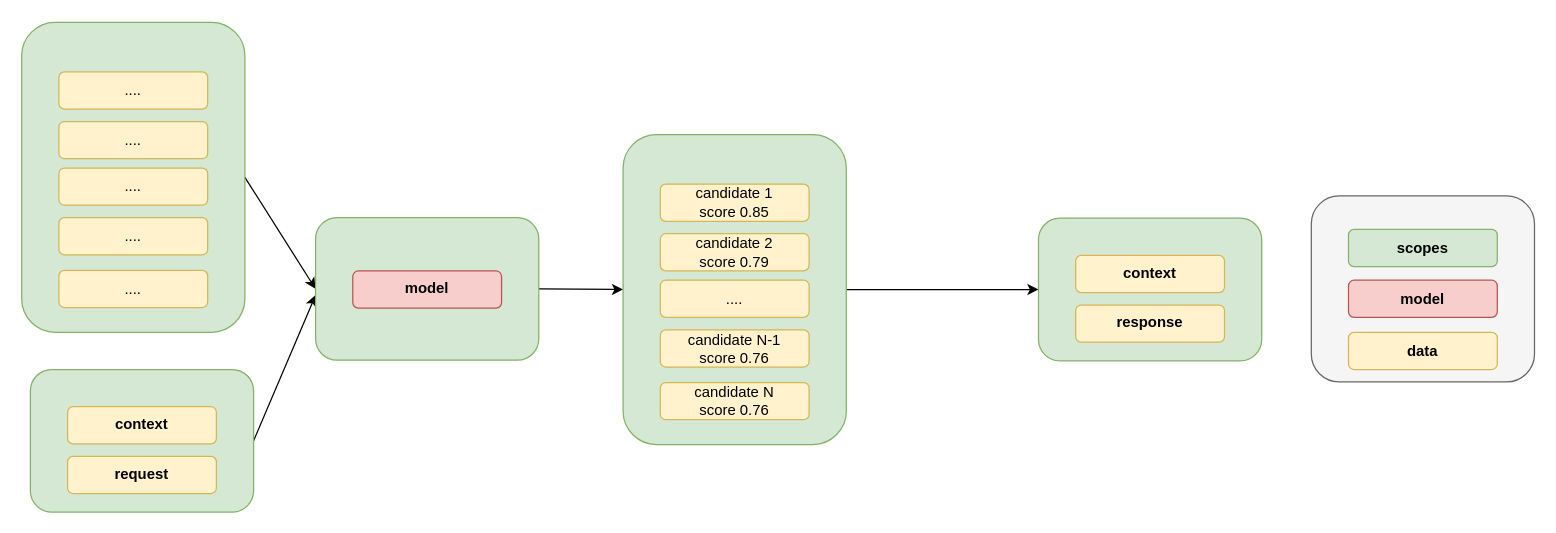
Some shapes in this 1556 by 533 pixel diagram are drawn without their labels. The shapes that lost their labels are listed below. From the top down, each one's box as (x1, y1, x2, y2) in pixels, then its label:
(20, 21, 245, 332): candidates
(314, 216, 539, 360): retriever
(622, 133, 846, 445): top N scored candidates
(1037, 217, 1262, 361): output
(1310, 195, 1534, 382): notations
(29, 368, 254, 512): input
